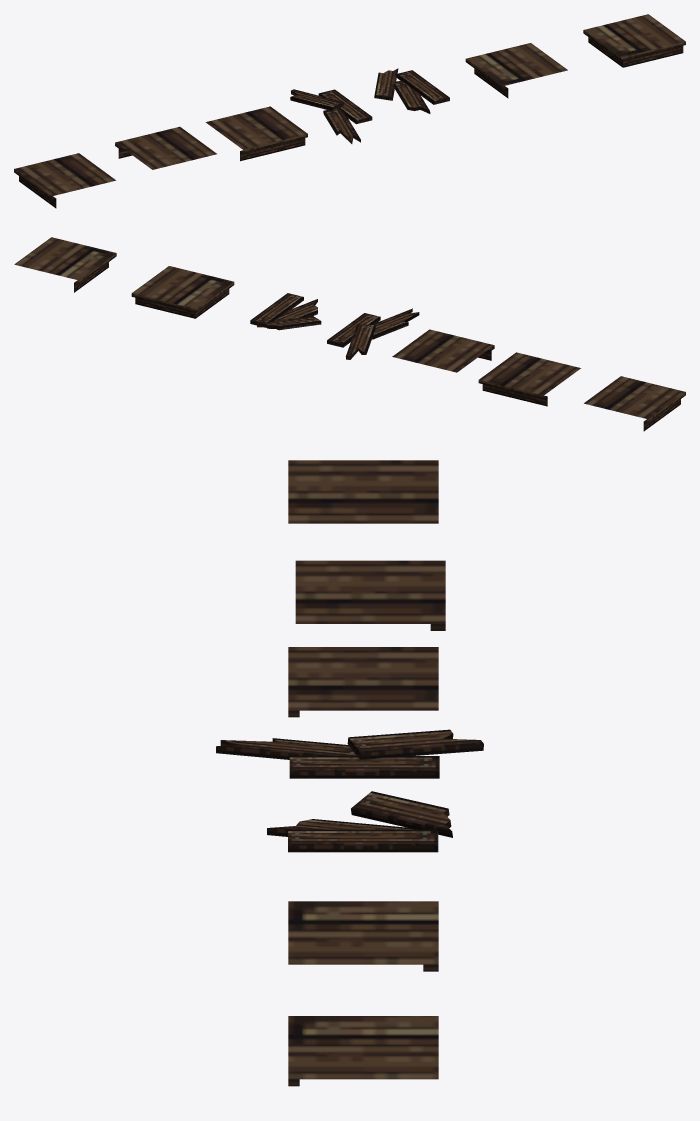
The model's file is EnvMdrMD_ClockTower_GrdBoard_A.FBX.
The picture shows the model from 3 angles, top to bottom: view 1: azimuth 30°, elevation 25°; view 2: azimuth 150°, elevation 25°; view 3: azimuth 270°, elevation 25°; orthographic projection. The views are drawn at different scales.
Visible parts, largest first — view 1: EnvMdrMD_ClockTower_GrdWall_A_CoOut_RF, EnvMdrMD_ClockTower_GrdWall_A_RS, EnvMdrMD_ClockTower_GrdWall_A_FR, EnvMdrMD_ClockTower_GrdWall_A_CoOut_LF, EnvMdrMD_ClockTower_GrdWall_A_LS, EnvMdrMD_ClockTower_GrdWall_A_Deco_B, EnvMdrMD_ClockTower_GrdWall_A_Deco_A; view 2: EnvMdrMD_ClockTower_GrdWall_A_CoOut_LF, EnvMdrMD_ClockTower_GrdWall_A_LS, EnvMdrMD_ClockTower_GrdWall_A_FR, EnvMdrMD_ClockTower_GrdWall_A_CoOut_RF, EnvMdrMD_ClockTower_GrdWall_A_RS, EnvMdrMD_ClockTower_GrdWall_A_Deco_A, EnvMdrMD_ClockTower_GrdWall_A_Deco_B; view 3: EnvMdrMD_ClockTower_GrdWall_A_CoOut_LF, EnvMdrMD_ClockTower_GrdWall_A_LS, EnvMdrMD_ClockTower_GrdWall_A_CoOut_RF, EnvMdrMD_ClockTower_GrdWall_A_RS, EnvMdrMD_ClockTower_GrdWall_A_FR, EnvMdrMD_ClockTower_GrdWall_A_Deco_A, EnvMdrMD_ClockTower_GrdWall_A_Deco_B.
Part boxes in pixels (box(x1,y1,x2,y2)): EnvMdrMD_ClockTower_GrdWall_A_CoOut_RF: box(583, 14, 685, 67); EnvMdrMD_ClockTower_GrdWall_A_RS: box(205, 106, 307, 161); EnvMdrMD_ClockTower_GrdWall_A_FR: box(14, 153, 115, 208); EnvMdrMD_ClockTower_GrdWall_A_CoOut_LF: box(465, 43, 567, 98); EnvMdrMD_ClockTower_GrdWall_A_LS: box(115, 126, 216, 169); EnvMdrMD_ClockTower_GrdWall_A_Deco_B: box(374, 68, 449, 113); EnvMdrMD_ClockTower_GrdWall_A_Deco_A: box(290, 89, 372, 143); EnvMdrMD_ClockTower_GrdWall_A_CoOut_LF: box(131, 266, 234, 318); EnvMdrMD_ClockTower_GrdWall_A_LS: box(478, 352, 580, 406); EnvMdrMD_ClockTower_GrdWall_A_FR: box(584, 376, 685, 431); EnvMdrMD_ClockTower_GrdWall_A_CoOut_RF: box(14, 237, 116, 292); EnvMdrMD_ClockTower_GrdWall_A_RS: box(392, 329, 494, 372); EnvMdrMD_ClockTower_GrdWall_A_Deco_A: box(327, 308, 419, 359); EnvMdrMD_ClockTower_GrdWall_A_Deco_B: box(250, 293, 321, 330); EnvMdrMD_ClockTower_GrdWall_A_CoOut_LF: box(288, 901, 438, 971); EnvMdrMD_ClockTower_GrdWall_A_LS: box(295, 560, 445, 630); EnvMdrMD_ClockTower_GrdWall_A_CoOut_RF: box(288, 1016, 438, 1086); EnvMdrMD_ClockTower_GrdWall_A_RS: box(288, 647, 438, 717); EnvMdrMD_ClockTower_GrdWall_A_FR: box(288, 460, 438, 523); EnvMdrMD_ClockTower_GrdWall_A_Deco_A: box(216, 729, 483, 778); EnvMdrMD_ClockTower_GrdWall_A_Deco_B: box(267, 791, 452, 852).
Bounding box in the file's own units: 1951 × 56.63 × 357.
